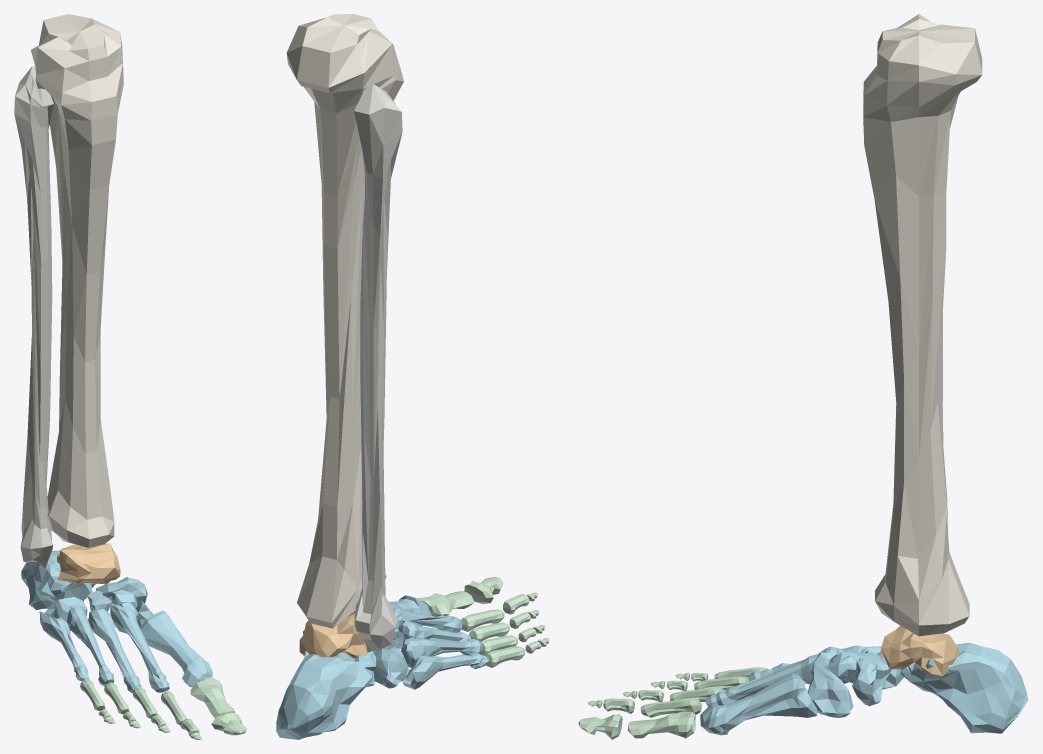
Rendered from right-ankle-rest.glb.
3 renders of one model, left to right at view 1: azimuth 30°, elevation 25°; view 2: azimuth 150°, elevation 25°; view 3: azimuth 270°, elevation 25°, orthographic. The views are drawn at different scales.
Visible parts, largest first — view 1: tibia_r.vtp, fibula.vtp, foot.vtp, bofoot.vtp, talus.vtp; view 2: tibia_r.vtp, fibula.vtp, foot.vtp, bofoot.vtp, talus.vtp; view 3: tibia_r.vtp, foot.vtp, bofoot.vtp, talus.vtp.
Part boxes in pixels (left/top/right/bottom): tibia_r.vtp: left=31, top=14, right=123, bottom=547; fibula.vtp: left=14, top=65, right=53, bottom=568; foot.vtp: left=21, top=550, right=212, bottom=692; bofoot.vtp: left=80, top=677, right=247, bottom=739; talus.vtp: left=57, top=543, right=120, bottom=584; tibia_r.vtp: left=286, top=14, right=403, bottom=628; fibula.vtp: left=354, top=83, right=402, bottom=652; foot.vtp: left=276, top=595, right=488, bottom=739; bofoot.vtp: left=418, top=577, right=549, bottom=667; talus.vtp: left=299, top=613, right=367, bottom=658; tibia_r.vtp: left=863, top=14, right=982, bottom=636; foot.vtp: left=700, top=643, right=1028, bottom=735; bofoot.vtp: left=578, top=667, right=767, bottom=739; talus.vtp: left=880, top=625, right=958, bottom=676.
Size of the model in its own units: 0.0945 by 0.4556 by 0.2655.
